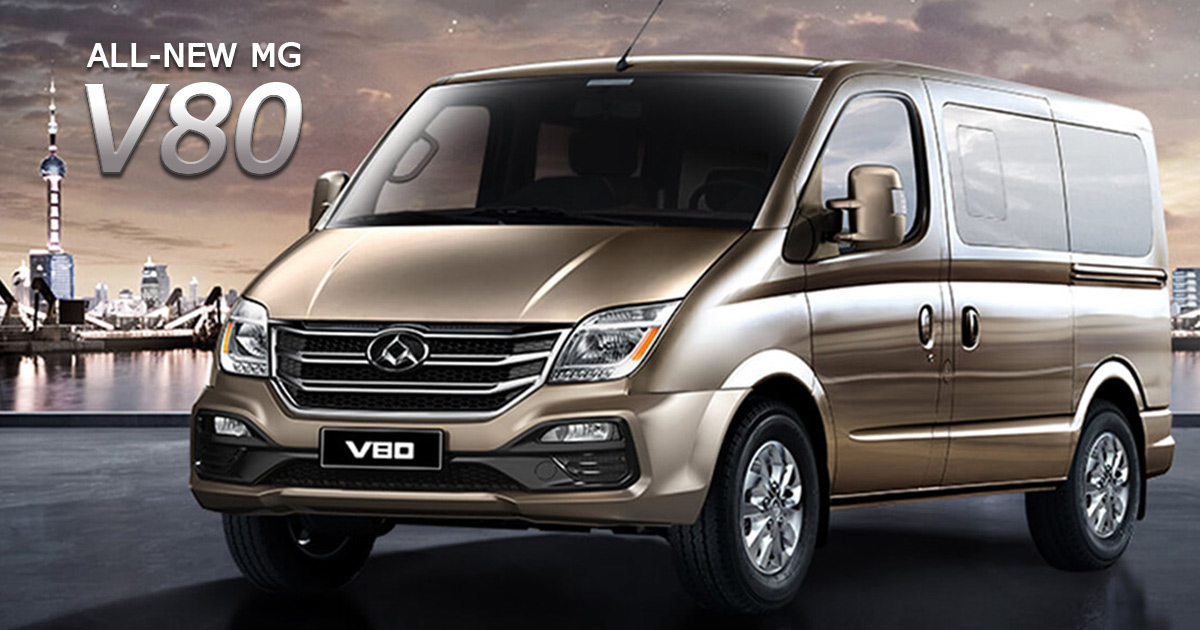van: (186, 46, 1179, 615)
